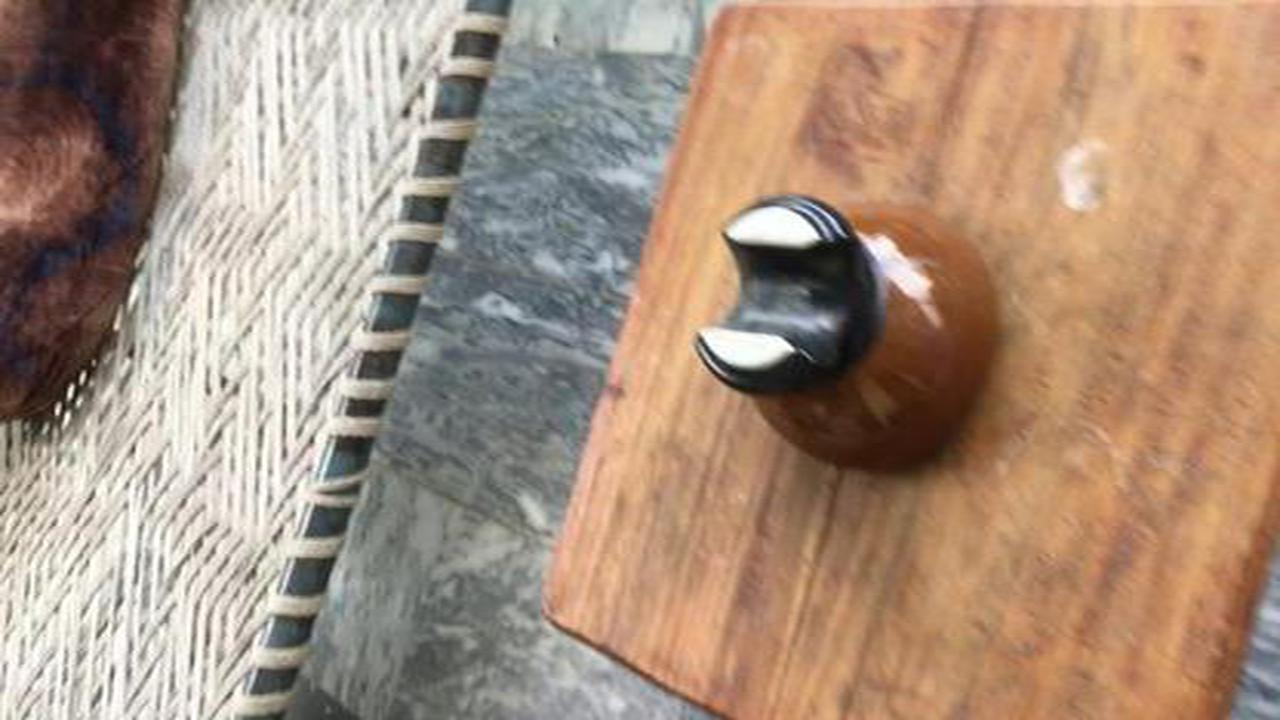insulator_pin: (671, 179, 1022, 494)
